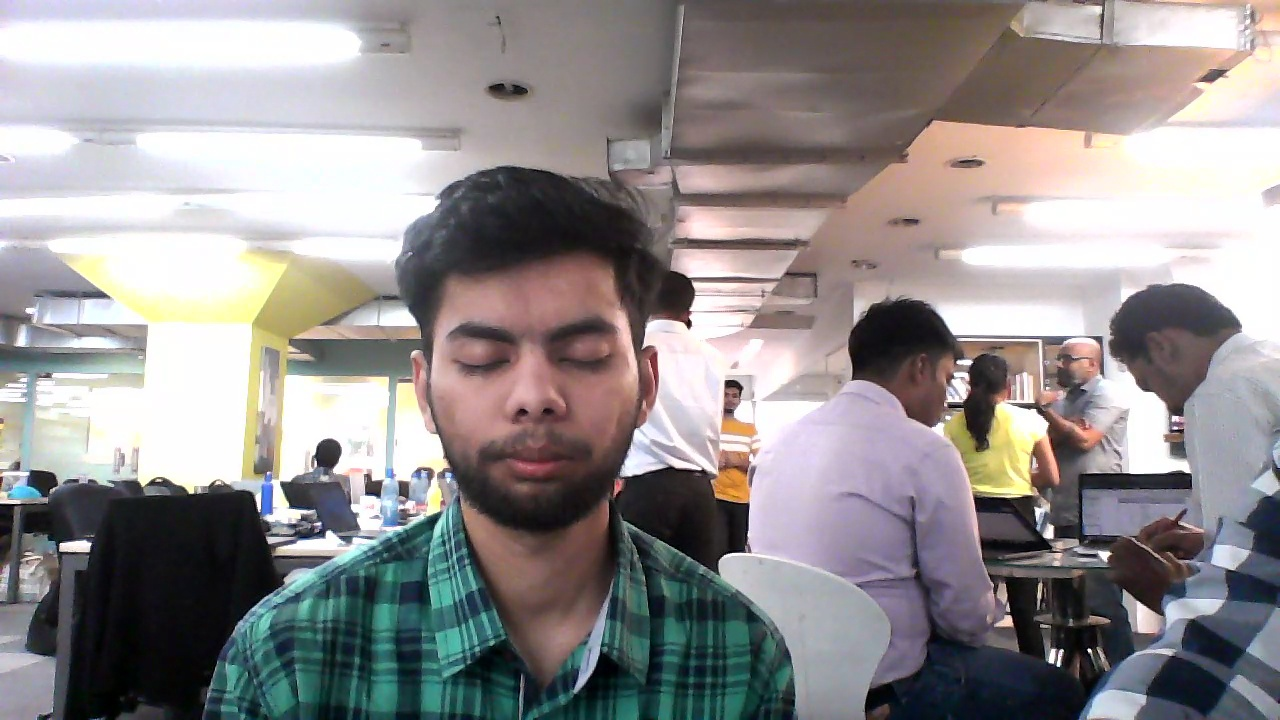closed: (395, 168, 666, 536)
